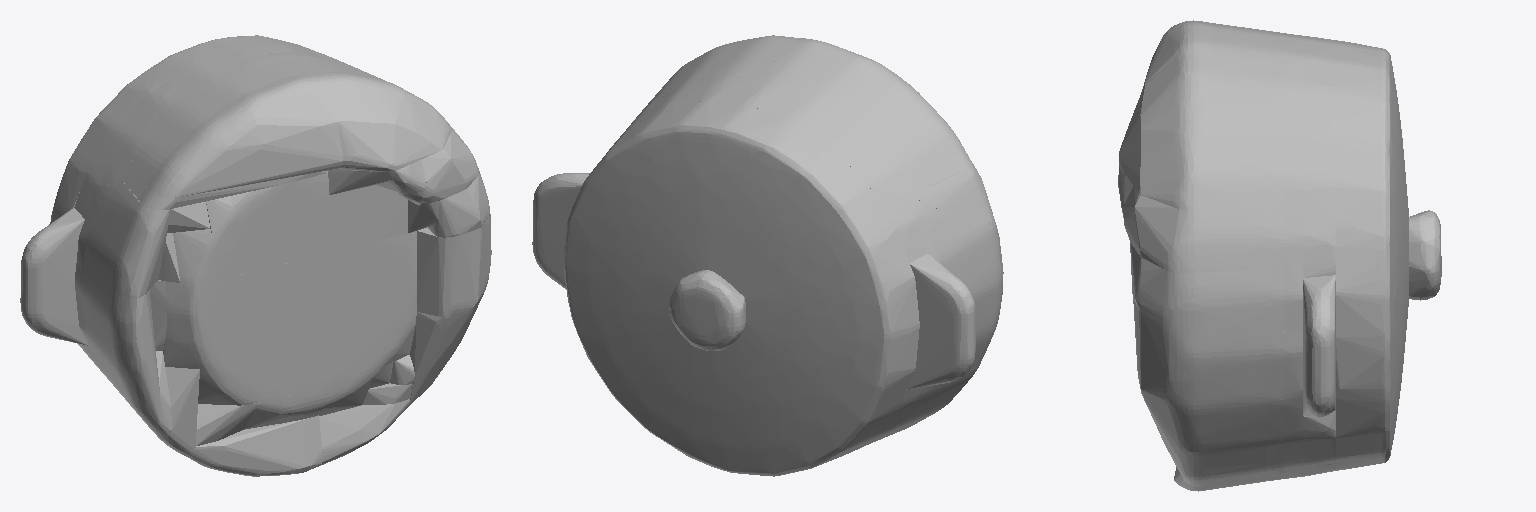
--- What the picture shows (computed from the rendered views, not written in the file) ---
3 views of the same robot in one strip: view 1: azimuth 30°, elevation 25°; view 2: azimuth 150°, elevation 25°; view 3: azimuth 270°, elevation 25° (orthographic).
Model root with 76 links and 75 joints (75 fixed), rooted at link_coacd_convex_piece_0, posed every joint at zero.
Links seen in each view (by area): view 1: link_coacd_convex_piece_5, link_coacd_convex_piece_27, link_coacd_convex_piece_6, link_coacd_convex_piece_2, link_coacd_convex_piece_31, link_coacd_convex_piece_26, link_coacd_convex_piece_21, link_coacd_convex_piece_35, link_coacd_convex_piece_1, link_coacd_convex_piece_30, link_coacd_convex_piece_57, link_coacd_convex_piece_32 (+28 smaller); view 2: link_coacd_convex_piece_1, link_coacd_convex_piece_21, link_coacd_convex_piece_32, link_coacd_convex_piece_0, link_coacd_convex_piece_35, link_coacd_convex_piece_33, link_coacd_convex_piece_9, link_coacd_convex_piece_27, link_coacd_convex_piece_26, link_coacd_convex_piece_15, link_coacd_convex_piece_3, link_coacd_convex_piece_22 (+9 smaller); view 3: link_coacd_convex_piece_1, link_coacd_convex_piece_7, link_coacd_convex_piece_2, link_coacd_convex_piece_16, link_coacd_convex_piece_3, link_coacd_convex_piece_38, link_coacd_convex_piece_15, link_coacd_convex_piece_33, link_coacd_convex_piece_59, link_coacd_convex_piece_0, link_coacd_convex_piece_61, link_coacd_convex_piece_23 (+11 smaller).
Link boxes in pixels (bbox=[...]): link_coacd_convex_piece_5: bbox=[198, 253, 328, 405]; link_coacd_convex_piece_27: bbox=[147, 74, 342, 197]; link_coacd_convex_piece_6: bbox=[329, 231, 416, 381]; link_coacd_convex_piece_2: bbox=[309, 72, 451, 171]; link_coacd_convex_piece_31: bbox=[230, 173, 328, 275]; link_coacd_convex_piece_26: bbox=[87, 267, 160, 431]; link_coacd_convex_piece_21: bbox=[20, 208, 87, 345]; link_coacd_convex_piece_35: bbox=[90, 179, 169, 298]; link_coacd_convex_piece_1: bbox=[50, 35, 315, 352]; link_coacd_convex_piece_30: bbox=[191, 415, 321, 476]; link_coacd_convex_piece_57: bbox=[329, 185, 407, 252]; link_coacd_convex_piece_32: bbox=[121, 83, 241, 198]; link_coacd_convex_piece_1: bbox=[564, 101, 919, 476]; link_coacd_convex_piece_21: bbox=[907, 254, 975, 388]; link_coacd_convex_piece_32: bbox=[829, 68, 957, 188]; link_coacd_convex_piece_0: bbox=[669, 270, 745, 350]; link_coacd_convex_piece_35: bbox=[926, 161, 999, 275]; link_coacd_convex_piece_33: bbox=[532, 173, 589, 288]; link_coacd_convex_piece_9: bbox=[789, 105, 912, 224]; link_coacd_convex_piece_27: bbox=[790, 38, 963, 158]; link_coacd_convex_piece_26: bbox=[926, 246, 1003, 402]; link_coacd_convex_piece_15: bbox=[617, 86, 803, 140]; link_coacd_convex_piece_3: bbox=[643, 44, 788, 109]; link_coacd_convex_piece_22: bbox=[764, 47, 853, 92]; link_coacd_convex_piece_1: bbox=[1336, 40, 1408, 470]; link_coacd_convex_piece_7: bbox=[1133, 299, 1265, 477]; link_coacd_convex_piece_2: bbox=[1119, 53, 1209, 210]; link_coacd_convex_piece_16: bbox=[1123, 186, 1265, 272]; link_coacd_convex_piece_3: bbox=[1210, 55, 1265, 209]; link_coacd_convex_piece_38: bbox=[1130, 243, 1265, 323]; link_coacd_convex_piece_15: bbox=[1303, 40, 1335, 212]; link_coacd_convex_piece_33: bbox=[1303, 275, 1335, 417]; link_coacd_convex_piece_59: bbox=[1266, 74, 1283, 241]; link_coacd_convex_piece_0: bbox=[1409, 210, 1441, 300]; link_coacd_convex_piece_61: bbox=[1284, 330, 1302, 454]; link_coacd_convex_piece_23: bbox=[1266, 350, 1283, 478].
Size in the robot's own frame: 1.93 by 1.12 by 1.63 metres.
Meshes: 76 distinct files referenced, 76 mesh visuals loaded (76 OBJ).

The robot description file, URDF, robot "root":
<robot name="root">
  <link name="link_coacd_convex_piece_0">
    <inertial>
      <origin xyz="0 0 0" rpy="0 0 0"/>
      <inertia ixx="1.48E-03" ixy="7.56E-06" ixz="7.05E-07" iyy="6.19E-05" iyz="-1.62E-05" izz="1.48E-03"/>
    </inertial>
    <visual>
      <origin xyz="0 0 0" rpy="0 0 0"/>
      <geometry>
        <mesh filename="coacd_convex_piece_0.obj" scale="1.0000E+00 1.0000E+00 1.0000E+00"/>
      </geometry>
      <material name="">
        <color rgba="7.50E-01 7.50E-01 7.50E-01 1"/>
      </material>
    </visual>
    <collision>
      <origin xyz="0 0 0" rpy="0 0 0"/>
      <geometry>
        <mesh filename="coacd_convex_piece_0.obj" scale="1.0000E+00 1.0000E+00 1.0000E+00"/>
      </geometry>
    </collision>
  </link>
  <link name="link_coacd_convex_piece_1">
    <inertial>
      <origin xyz="0 0 0" rpy="0 0 0"/>
      <inertia ixx="6.25E-02" ixy="9.17E-04" ixz="-1.69E-05" iyy="7.08E-02" iyz="2.14E-05" izz="6.24E-02"/>
    </inertial>
    <visual>
      <origin xyz="0 0 0" rpy="0 0 0"/>
      <geometry>
        <mesh filename="coacd_convex_piece_1.obj" scale="1.0000E+00 1.0000E+00 1.0000E+00"/>
      </geometry>
      <material name="">
        <color rgba="7.50E-01 7.50E-01 7.50E-01 1"/>
      </material>
    </visual>
    <collision>
      <origin xyz="0 0 0" rpy="0 0 0"/>
      <geometry>
        <mesh filename="coacd_convex_piece_1.obj" scale="1.0000E+00 1.0000E+00 1.0000E+00"/>
      </geometry>
    </collision>
  </link>
  <joint name="link_coacd_convex_piece_1_joint" type="fixed">
    <origin xyz="0 0 0" rpy="0 0 0"/>
    <parent link="link_coacd_convex_piece_0"/>
    <child link="link_coacd_convex_piece_1"/>
  </joint>
  <link name="link_coacd_convex_piece_2">
    <inertial>
      <origin xyz="0 0 0" rpy="0 0 0"/>
      <inertia ixx="1.02E-02" ixy="2.02E-03" ixz="-3.30E-03" iyy="9.36E-03" iyz="4.37E-03" izz="4.72E-03"/>
    </inertial>
    <visual>
      <origin xyz="0 0 0" rpy="0 0 0"/>
      <geometry>
        <mesh filename="coacd_convex_piece_2.obj" scale="1.0000E+00 1.0000E+00 1.0000E+00"/>
      </geometry>
      <material name="">
        <color rgba="7.50E-01 7.50E-01 7.50E-01 1"/>
      </material>
    </visual>
    <collision>
      <origin xyz="0 0 0" rpy="0 0 0"/>
      <geometry>
        <mesh filename="coacd_convex_piece_2.obj" scale="1.0000E+00 1.0000E+00 1.0000E+00"/>
      </geometry>
    </collision>
  </link>
  <joint name="link_coacd_convex_piece_2_joint" type="fixed">
    <origin xyz="0 0 0" rpy="0 0 0"/>
    <parent link="link_coacd_convex_piece_1"/>
    <child link="link_coacd_convex_piece_2"/>
  </joint>
  <link name="link_coacd_convex_piece_3">
    <inertial>
      <origin xyz="0 0 0" rpy="0 0 0"/>
      <inertia ixx="5.42E-03" ixy="5.97E-04" ixz="-2.39E-03" iyy="6.59E-03" iyz="1.20E-03" izz="1.81E-03"/>
    </inertial>
    <visual>
      <origin xyz="0 0 0" rpy="0 0 0"/>
      <geometry>
        <mesh filename="coacd_convex_piece_3.obj" scale="1.0000E+00 1.0000E+00 1.0000E+00"/>
      </geometry>
      <material name="">
        <color rgba="7.50E-01 7.50E-01 7.50E-01 1"/>
      </material>
    </visual>
    <collision>
      <origin xyz="0 0 0" rpy="0 0 0"/>
      <geometry>
        <mesh filename="coacd_convex_piece_3.obj" scale="1.0000E+00 1.0000E+00 1.0000E+00"/>
      </geometry>
    </collision>
  </link>
  <joint name="link_coacd_convex_piece_3_joint" type="fixed">
    <origin xyz="0 0 0" rpy="0 0 0"/>
    <parent link="link_coacd_convex_piece_2"/>
    <child link="link_coacd_convex_piece_3"/>
  </joint>
  <link name="link_coacd_convex_piece_4">
    <inertial>
      <origin xyz="0 0 0" rpy="0 0 0"/>
      <inertia ixx="5.82E-04" ixy="-4.44E-05" ixz="-8.27E-04" iyy="2.36E-03" iyz="-2.24E-05" izz="1.79E-03"/>
    </inertial>
    <visual>
      <origin xyz="0 0 0" rpy="0 0 0"/>
      <geometry>
        <mesh filename="coacd_convex_piece_4.obj" scale="1.0000E+00 1.0000E+00 1.0000E+00"/>
      </geometry>
      <material name="">
        <color rgba="7.50E-01 7.50E-01 7.50E-01 1"/>
      </material>
    </visual>
    <collision>
      <origin xyz="0 0 0" rpy="0 0 0"/>
      <geometry>
        <mesh filename="coacd_convex_piece_4.obj" scale="1.0000E+00 1.0000E+00 1.0000E+00"/>
      </geometry>
    </collision>
  </link>
  <joint name="link_coacd_convex_piece_4_joint" type="fixed">
    <origin xyz="0 0 0" rpy="0 0 0"/>
    <parent link="link_coacd_convex_piece_3"/>
    <child link="link_coacd_convex_piece_4"/>
  </joint>
  <link name="link_coacd_convex_piece_5">
    <inertial>
      <origin xyz="0 0 0" rpy="0 0 0"/>
      <inertia ixx="8.19E-03" ixy="-3.43E-03" ixz="-2.13E-03" iyy="8.08E-03" iyz="-2.67E-03" izz="9.18E-03"/>
    </inertial>
    <visual>
      <origin xyz="0 0 0" rpy="0 0 0"/>
      <geometry>
        <mesh filename="coacd_convex_piece_5.obj" scale="1.0000E+00 1.0000E+00 1.0000E+00"/>
      </geometry>
      <material name="">
        <color rgba="7.50E-01 7.50E-01 7.50E-01 1"/>
      </material>
    </visual>
    <collision>
      <origin xyz="0 0 0" rpy="0 0 0"/>
      <geometry>
        <mesh filename="coacd_convex_piece_5.obj" scale="1.0000E+00 1.0000E+00 1.0000E+00"/>
      </geometry>
    </collision>
  </link>
  <joint name="link_coacd_convex_piece_5_joint" type="fixed">
    <origin xyz="0 0 0" rpy="0 0 0"/>
    <parent link="link_coacd_convex_piece_4"/>
    <child link="link_coacd_convex_piece_5"/>
  </joint>
  <link name="link_coacd_convex_piece_6">
    <inertial>
      <origin xyz="0 0 0" rpy="0 0 0"/>
      <inertia ixx="5.31E-03" ixy="2.94E-03" ixz="1.70E-03" iyy="5.70E-03" iyz="-1.70E-03" izz="6.76E-03"/>
    </inertial>
    <visual>
      <origin xyz="0 0 0" rpy="0 0 0"/>
      <geometry>
        <mesh filename="coacd_convex_piece_6.obj" scale="1.0000E+00 1.0000E+00 1.0000E+00"/>
      </geometry>
      <material name="">
        <color rgba="7.50E-01 7.50E-01 7.50E-01 1"/>
      </material>
    </visual>
    <collision>
      <origin xyz="0 0 0" rpy="0 0 0"/>
      <geometry>
        <mesh filename="coacd_convex_piece_6.obj" scale="1.0000E+00 1.0000E+00 1.0000E+00"/>
      </geometry>
    </collision>
  </link>
  <joint name="link_coacd_convex_piece_6_joint" type="fixed">
    <origin xyz="0 0 0" rpy="0 0 0"/>
    <parent link="link_coacd_convex_piece_5"/>
    <child link="link_coacd_convex_piece_6"/>
  </joint>
  <link name="link_coacd_convex_piece_7">
    <inertial>
      <origin xyz="0 0 0" rpy="0 0 0"/>
      <inertia ixx="3.93E-03" ixy="5.38E-03" ixz="2.89E-03" iyy="1.55E-02" iyz="-1.07E-03" izz="1.66E-02"/>
    </inertial>
    <visual>
      <origin xyz="0 0 0" rpy="0 0 0"/>
      <geometry>
        <mesh filename="coacd_convex_piece_7.obj" scale="1.0000E+00 1.0000E+00 1.0000E+00"/>
      </geometry>
      <material name="">
        <color rgba="7.50E-01 7.50E-01 7.50E-01 1"/>
      </material>
    </visual>
    <collision>
      <origin xyz="0 0 0" rpy="0 0 0"/>
      <geometry>
        <mesh filename="coacd_convex_piece_7.obj" scale="1.0000E+00 1.0000E+00 1.0000E+00"/>
      </geometry>
    </collision>
  </link>
  <joint name="link_coacd_convex_piece_7_joint" type="fixed">
    <origin xyz="0 0 0" rpy="0 0 0"/>
    <parent link="link_coacd_convex_piece_6"/>
    <child link="link_coacd_convex_piece_7"/>
  </joint>
  <link name="link_coacd_convex_piece_8">
    <inertial>
      <origin xyz="0 0 0" rpy="0 0 0"/>
      <inertia ixx="4.95E-04" ixy="-7.80E-04" ixz="-1.74E-04" iyy="1.59E-03" iyz="-8.74E-05" izz="1.94E-03"/>
    </inertial>
    <visual>
      <origin xyz="0 0 0" rpy="0 0 0"/>
      <geometry>
        <mesh filename="coacd_convex_piece_8.obj" scale="1.0000E+00 1.0000E+00 1.0000E+00"/>
      </geometry>
      <material name="">
        <color rgba="7.50E-01 7.50E-01 7.50E-01 1"/>
      </material>
    </visual>
    <collision>
      <origin xyz="0 0 0" rpy="0 0 0"/>
      <geometry>
        <mesh filename="coacd_convex_piece_8.obj" scale="1.0000E+00 1.0000E+00 1.0000E+00"/>
      </geometry>
    </collision>
  </link>
  <joint name="link_coacd_convex_piece_8_joint" type="fixed">
    <origin xyz="0 0 0" rpy="0 0 0"/>
    <parent link="link_coacd_convex_piece_7"/>
    <child link="link_coacd_convex_piece_8"/>
  </joint>
  <link name="link_coacd_convex_piece_9">
    <inertial>
      <origin xyz="0 0 0" rpy="0 0 0"/>
      <inertia ixx="2.53E-03" ixy="4.21E-04" ixz="1.56E-03" iyy="3.58E-03" iyz="-6.07E-04" izz="1.39E-03"/>
    </inertial>
    <visual>
      <origin xyz="0 0 0" rpy="0 0 0"/>
      <geometry>
        <mesh filename="coacd_convex_piece_9.obj" scale="1.0000E+00 1.0000E+00 1.0000E+00"/>
      </geometry>
      <material name="">
        <color rgba="7.50E-01 7.50E-01 7.50E-01 1"/>
      </material>
    </visual>
    <collision>
      <origin xyz="0 0 0" rpy="0 0 0"/>
      <geometry>
        <mesh filename="coacd_convex_piece_9.obj" scale="1.0000E+00 1.0000E+00 1.0000E+00"/>
      </geometry>
    </collision>
  </link>
  <joint name="link_coacd_convex_piece_9_joint" type="fixed">
    <origin xyz="0 0 0" rpy="0 0 0"/>
    <parent link="link_coacd_convex_piece_8"/>
    <child link="link_coacd_convex_piece_9"/>
  </joint>
  <link name="link_coacd_convex_piece_10">
    <inertial>
      <origin xyz="0 0 0" rpy="0 0 0"/>
      <inertia ixx="1.18E-03" ixy="-3.55E-04" ixz="5.40E-04" iyy="1.31E-03" iyz="5.44E-04" izz="8.77E-04"/>
    </inertial>
    <visual>
      <origin xyz="0 0 0" rpy="0 0 0"/>
      <geometry>
        <mesh filename="coacd_convex_piece_10.obj" scale="1.0000E+00 1.0000E+00 1.0000E+00"/>
      </geometry>
      <material name="">
        <color rgba="7.50E-01 7.50E-01 7.50E-01 1"/>
      </material>
    </visual>
    <collision>
      <origin xyz="0 0 0" rpy="0 0 0"/>
      <geometry>
        <mesh filename="coacd_convex_piece_10.obj" scale="1.0000E+00 1.0000E+00 1.0000E+00"/>
      </geometry>
    </collision>
  </link>
  <joint name="link_coacd_convex_piece_10_joint" type="fixed">
    <origin xyz="0 0 0" rpy="0 0 0"/>
    <parent link="link_coacd_convex_piece_9"/>
    <child link="link_coacd_convex_piece_10"/>
  </joint>
  <link name="link_coacd_convex_piece_11">
    <inertial>
      <origin xyz="0 0 0" rpy="0 0 0"/>
      <inertia ixx="6.21E-05" ixy="9.17E-05" ixz="-1.90E-04" iyy="1.33E-03" iyz="1.41E-05" izz="1.29E-03"/>
    </inertial>
    <visual>
      <origin xyz="0 0 0" rpy="0 0 0"/>
      <geometry>
        <mesh filename="coacd_convex_piece_11.obj" scale="1.0000E+00 1.0000E+00 1.0000E+00"/>
      </geometry>
      <material name="">
        <color rgba="7.50E-01 7.50E-01 7.50E-01 1"/>
      </material>
    </visual>
    <collision>
      <origin xyz="0 0 0" rpy="0 0 0"/>
      <geometry>
        <mesh filename="coacd_convex_piece_11.obj" scale="1.0000E+00 1.0000E+00 1.0000E+00"/>
      </geometry>
    </collision>
  </link>
  <joint name="link_coacd_convex_piece_11_joint" type="fixed">
    <origin xyz="0 0 0" rpy="0 0 0"/>
    <parent link="link_coacd_convex_piece_10"/>
    <child link="link_coacd_convex_piece_11"/>
  </joint>
  <link name="link_coacd_convex_piece_12">
    <inertial>
      <origin xyz="0 0 0" rpy="0 0 0"/>
      <inertia ixx="6.12E-03" ixy="5.60E-04" ixz="1.83E-03" iyy="6.29E-03" iyz="-1.66E-03" izz="1.33E-03"/>
    </inertial>
    <visual>
      <origin xyz="0 0 0" rpy="0 0 0"/>
      <geometry>
        <mesh filename="coacd_convex_piece_12.obj" scale="1.0000E+00 1.0000E+00 1.0000E+00"/>
      </geometry>
      <material name="">
        <color rgba="7.50E-01 7.50E-01 7.50E-01 1"/>
      </material>
    </visual>
    <collision>
      <origin xyz="0 0 0" rpy="0 0 0"/>
      <geometry>
        <mesh filename="coacd_convex_piece_12.obj" scale="1.0000E+00 1.0000E+00 1.0000E+00"/>
      </geometry>
    </collision>
  </link>
  <joint name="link_coacd_convex_piece_12_joint" type="fixed">
    <origin xyz="0 0 0" rpy="0 0 0"/>
    <parent link="link_coacd_convex_piece_11"/>
    <child link="link_coacd_convex_piece_12"/>
  </joint>
  <link name="link_coacd_convex_piece_13">
    <inertial>
      <origin xyz="0 0 0" rpy="0 0 0"/>
      <inertia ixx="6.33E-04" ixy="6.61E-05" ixz="6.44E-04" iyy="1.39E-03" iyz="-5.89E-05" izz="7.69E-04"/>
    </inertial>
    <visual>
      <origin xyz="0 0 0" rpy="0 0 0"/>
      <geometry>
        <mesh filename="coacd_convex_piece_13.obj" scale="1.0000E+00 1.0000E+00 1.0000E+00"/>
      </geometry>
      <material name="">
        <color rgba="7.50E-01 7.50E-01 7.50E-01 1"/>
      </material>
    </visual>
    <collision>
      <origin xyz="0 0 0" rpy="0 0 0"/>
      <geometry>
        <mesh filename="coacd_convex_piece_13.obj" scale="1.0000E+00 1.0000E+00 1.0000E+00"/>
      </geometry>
    </collision>
  </link>
  <joint name="link_coacd_convex_piece_13_joint" type="fixed">
    <origin xyz="0 0 0" rpy="0 0 0"/>
    <parent link="link_coacd_convex_piece_12"/>
    <child link="link_coacd_convex_piece_13"/>
  </joint>
  <link name="link_coacd_convex_piece_14">
    <inertial>
      <origin xyz="0 0 0" rpy="0 0 0"/>
      <inertia ixx="4.71E-04" ixy="-1.22E-05" ixz="4.12E-04" iyy="8.54E-04" iyz="1.40E-05" izz="3.84E-04"/>
    </inertial>
    <visual>
      <origin xyz="0 0 0" rpy="0 0 0"/>
      <geometry>
        <mesh filename="coacd_convex_piece_14.obj" scale="1.0000E+00 1.0000E+00 1.0000E+00"/>
      </geometry>
      <material name="">
        <color rgba="7.50E-01 7.50E-01 7.50E-01 1"/>
      </material>
    </visual>
    <collision>
      <origin xyz="0 0 0" rpy="0 0 0"/>
      <geometry>
        <mesh filename="coacd_convex_piece_14.obj" scale="1.0000E+00 1.0000E+00 1.0000E+00"/>
      </geometry>
    </collision>
  </link>
  <joint name="link_coacd_convex_piece_14_joint" type="fixed">
    <origin xyz="0 0 0" rpy="0 0 0"/>
    <parent link="link_coacd_convex_piece_13"/>
    <child link="link_coacd_convex_piece_14"/>
  </joint>
  <link name="link_coacd_convex_piece_15">
    <inertial>
      <origin xyz="0 0 0" rpy="0 0 0"/>
      <inertia ixx="5.40E-03" ixy="-2.97E-04" ixz="-1.20E-03" iyy="5.97E-03" iyz="-1.18E-03" izz="1.16E-03"/>
    </inertial>
    <visual>
      <origin xyz="0 0 0" rpy="0 0 0"/>
      <geometry>
        <mesh filename="coacd_convex_piece_15.obj" scale="1.0000E+00 1.0000E+00 1.0000E+00"/>
      </geometry>
      <material name="">
        <color rgba="7.50E-01 7.50E-01 7.50E-01 1"/>
      </material>
    </visual>
    <collision>
      <origin xyz="0 0 0" rpy="0 0 0"/>
      <geometry>
        <mesh filename="coacd_convex_piece_15.obj" scale="1.0000E+00 1.0000E+00 1.0000E+00"/>
      </geometry>
    </collision>
  </link>
  <joint name="link_coacd_convex_piece_15_joint" type="fixed">
    <origin xyz="0 0 0" rpy="0 0 0"/>
    <parent link="link_coacd_convex_piece_14"/>
    <child link="link_coacd_convex_piece_15"/>
  </joint>
  <link name="link_coacd_convex_piece_16">
    <inertial>
      <origin xyz="0 0 0" rpy="0 0 0"/>
      <inertia ixx="3.72E-03" ixy="2.40E-03" ixz="-3.20E-03" iyy="7.06E-03" iyz="1.66E-03" izz="6.33E-03"/>
    </inertial>
    <visual>
      <origin xyz="0 0 0" rpy="0 0 0"/>
      <geometry>
        <mesh filename="coacd_convex_piece_16.obj" scale="1.0000E+00 1.0000E+00 1.0000E+00"/>
      </geometry>
      <material name="">
        <color rgba="7.50E-01 7.50E-01 7.50E-01 1"/>
      </material>
    </visual>
    <collision>
      <origin xyz="0 0 0" rpy="0 0 0"/>
      <geometry>
        <mesh filename="coacd_convex_piece_16.obj" scale="1.0000E+00 1.0000E+00 1.0000E+00"/>
      </geometry>
    </collision>
  </link>
  <joint name="link_coacd_convex_piece_16_joint" type="fixed">
    <origin xyz="0 0 0" rpy="0 0 0"/>
    <parent link="link_coacd_convex_piece_15"/>
    <child link="link_coacd_convex_piece_16"/>
  </joint>
  <link name="link_coacd_convex_piece_17">
    <inertial>
      <origin xyz="0 0 0" rpy="0 0 0"/>
      <inertia ixx="9.47E-04" ixy="1.20E-03" ixz="1.71E-04" iyy="1.76E-03" iyz="-1.17E-04" izz="2.56E-03"/>
    </inertial>
    <visual>
      <origin xyz="0 0 0" rpy="0 0 0"/>
      <geometry>
        <mesh filename="coacd_convex_piece_17.obj" scale="1.0000E+00 1.0000E+00 1.0000E+00"/>
      </geometry>
      <material name="">
        <color rgba="7.50E-01 7.50E-01 7.50E-01 1"/>
      </material>
    </visual>
    <collision>
      <origin xyz="0 0 0" rpy="0 0 0"/>
      <geometry>
        <mesh filename="coacd_convex_piece_17.obj" scale="1.0000E+00 1.0000E+00 1.0000E+00"/>
      </geometry>
    </collision>
  </link>
  <joint name="link_coacd_convex_piece_17_joint" type="fixed">
    <origin xyz="0 0 0" rpy="0 0 0"/>
    <parent link="link_coacd_convex_piece_16"/>
    <child link="link_coacd_convex_piece_17"/>
  </joint>
  <link name="link_coacd_convex_piece_18">
    <inertial>
      <origin xyz="0 0 0" rpy="0 0 0"/>
      <inertia ixx="1.94E-03" ixy="-4.81E-04" ixz="-1.22E-03" iyy="3.34E-03" iyz="-6.59E-04" izz="1.96E-03"/>
    </inertial>
    <visual>
      <origin xyz="0 0 0" rpy="0 0 0"/>
      <geometry>
        <mesh filename="coacd_convex_piece_18.obj" scale="1.0000E+00 1.0000E+00 1.0000E+00"/>
      </geometry>
      <material name="">
        <color rgba="7.50E-01 7.50E-01 7.50E-01 1"/>
      </material>
    </visual>
    <collision>
      <origin xyz="0 0 0" rpy="0 0 0"/>
      <geometry>
        <mesh filename="coacd_convex_piece_18.obj" scale="1.0000E+00 1.0000E+00 1.0000E+00"/>
      </geometry>
    </collision>
  </link>
  <joint name="link_coacd_convex_piece_18_joint" type="fixed">
    <origin xyz="0 0 0" rpy="0 0 0"/>
    <parent link="link_coacd_convex_piece_17"/>
    <child link="link_coacd_convex_piece_18"/>
  </joint>
  <link name="link_coacd_convex_piece_19">
    <inertial>
      <origin xyz="0 0 0" rpy="0 0 0"/>
      <inertia ixx="2.04E-03" ixy="-9.15E-04" ixz="-1.91E-03" iyy="3.99E-03" iyz="-7.39E-04" izz="2.77E-03"/>
    </inertial>
    <visual>
      <origin xyz="0 0 0" rpy="0 0 0"/>
      <geometry>
        <mesh filename="coacd_convex_piece_19.obj" scale="1.0000E+00 1.0000E+00 1.0000E+00"/>
      </geometry>
      <material name="">
        <color rgba="7.50E-01 7.50E-01 7.50E-01 1"/>
      </material>
    </visual>
    <collision>
      <origin xyz="0 0 0" rpy="0 0 0"/>
      <geometry>
        <mesh filename="coacd_convex_piece_19.obj" scale="1.0000E+00 1.0000E+00 1.0000E+00"/>
      </geometry>
    </collision>
  </link>
  <joint name="link_coacd_convex_piece_19_joint" type="fixed">
    <origin xyz="0 0 0" rpy="0 0 0"/>
    <parent link="link_coacd_convex_piece_18"/>
    <child link="link_coacd_convex_piece_19"/>
  </joint>
  <link name="link_coacd_convex_piece_20">
    <inertial>
      <origin xyz="0 0 0" rpy="0 0 0"/>
      <inertia ixx="1.28E-03" ixy="4.24E-04" ixz="-1.28E-03" iyy="2.73E-03" iyz="3.60E-04" izz="1.70E-03"/>
    </inertial>
    <visual>
      <origin xyz="0 0 0" rpy="0 0 0"/>
      <geometry>
        <mesh filename="coacd_convex_piece_20.obj" scale="1.0000E+00 1.0000E+00 1.0000E+00"/>
      </geometry>
      <material name="">
        <color rgba="7.50E-01 7.50E-01 7.50E-01 1"/>
      </material>
    </visual>
    <collision>
      <origin xyz="0 0 0" rpy="0 0 0"/>
      <geometry>
        <mesh filename="coacd_convex_piece_20.obj" scale="1.0000E+00 1.0000E+00 1.0000E+00"/>
      </geometry>
    </collision>
  </link>
  <joint name="link_coacd_convex_piece_20_joint" type="fixed">
    <origin xyz="0 0 0" rpy="0 0 0"/>
    <parent link="link_coacd_convex_piece_19"/>
    <child link="link_coacd_convex_piece_20"/>
  </joint>
  <link name="link_coacd_convex_piece_21">
    <inertial>
      <origin xyz="0 0 0" rpy="0 0 0"/>
      <inertia ixx="8.90E-04" ixy="2.04E-03" ixz="-1.75E-04" iyy="1.07E-02" iyz="4.11E-05" izz="1.07E-02"/>
    </inertial>
    <visual>
      <origin xyz="0 0 0" rpy="0 0 0"/>
      <geometry>
        <mesh filename="coacd_convex_piece_21.obj" scale="1.0000E+00 1.0000E+00 1.0000E+00"/>
      </geometry>
      <material name="">
        <color rgba="7.50E-01 7.50E-01 7.50E-01 1"/>
      </material>
    </visual>
    <collision>
      <origin xyz="0 0 0" rpy="0 0 0"/>
      <geometry>
        <mesh filename="coacd_convex_piece_21.obj" scale="1.0000E+00 1.0000E+00 1.0000E+00"/>
      </geometry>
    </collision>
  </link>
  <joint name="link_coacd_convex_piece_21_joint" type="fixed">
    <origin xyz="0 0 0" rpy="0 0 0"/>
    <parent link="link_coacd_convex_piece_20"/>
    <child link="link_coacd_convex_piece_21"/>
  </joint>
  <link name="link_coacd_convex_piece_22">
    <inertial>
      <origin xyz="0 0 0" rpy="0 0 0"/>
      <inertia ixx="3.49E-03" ixy="-7.64E-05" ixz="3.60E-04" iyy="3.41E-03" iyz="7.01E-04" izz="2.50E-04"/>
    </inertial>
    <visual>
      <origin xyz="0 0 0" rpy="0 0 0"/>
      <geometry>
        <mesh filename="coacd_convex_piece_22.obj" scale="1.0000E+00 1.0000E+00 1.0000E+00"/>
      </geometry>
      <material name="">
        <color rgba="7.50E-01 7.50E-01 7.50E-01 1"/>
      </material>
    </visual>
    <collision>
      <origin xyz="0 0 0" rpy="0 0 0"/>
      <geometry>
        <mesh filename="coacd_convex_piece_22.obj" scale="1.0000E+00 1.0000E+00 1.0000E+00"/>
      </geometry>
    </collision>
  </link>
  <joint name="link_coacd_convex_piece_22_joint" type="fixed">
    <origin xyz="0 0 0" rpy="0 0 0"/>
    <parent link="link_coacd_convex_piece_21"/>
    <child link="link_coacd_convex_piece_22"/>
  </joint>
  <link name="link_coacd_convex_piece_23">
    <inertial>
      <origin xyz="0 0 0" rpy="0 0 0"/>
      <inertia ixx="6.17E-04" ixy="4.56E-05" ixz="8.85E-04" iyy="2.51E-03" iyz="-2.25E-05" izz="1.89E-03"/>
    </inertial>
    <visual>
      <origin xyz="0 0 0" rpy="0 0 0"/>
      <geometry>
        <mesh filename="coacd_convex_piece_23.obj" scale="1.0000E+00 1.0000E+00 1.0000E+00"/>
      </geometry>
      <material name="">
        <color rgba="7.50E-01 7.50E-01 7.50E-01 1"/>
      </material>
    </visual>
    <collision>
      <origin xyz="0 0 0" rpy="0 0 0"/>
      <geometry>
        <mesh filename="coacd_convex_piece_23.obj" scale="1.0000E+00 1.0000E+00 1.0000E+00"/>
      </geometry>
    </collision>
  </link>
  <joint name="link_coacd_convex_piece_23_joint" type="fixed">
    <origin xyz="0 0 0" rpy="0 0 0"/>
    <parent link="link_coacd_convex_piece_22"/>
    <child link="link_coacd_convex_piece_23"/>
  </joint>
  <link name="link_coacd_convex_piece_24">
    <inertial>
      <origin xyz="0 0 0" rpy="0 0 0"/>
      <inertia ixx="6.35E-05" ixy="5.80E-05" ixz="2.02E-04" iyy="8.44E-04" iyz="-1.49E-05" izz="7.90E-04"/>
    </inertial>
    <visual>
      <origin xyz="0 0 0" rpy="0 0 0"/>
      <geometry>
        <mesh filename="coacd_convex_piece_24.obj" scale="1.0000E+00 1.0000E+00 1.0000E+00"/>
      </geometry>
      <material name="">
        <color rgba="7.50E-01 7.50E-01 7.50E-01 1"/>
      </material>
    </visual>
    <collision>
      <origin xyz="0 0 0" rpy="0 0 0"/>
      <geometry>
        <mesh filename="coacd_convex_piece_24.obj" scale="1.0000E+00 1.0000E+00 1.0000E+00"/>
      </geometry>
    </collision>
  </link>
  <joint name="link_coacd_convex_piece_24_joint" type="fixed">
    <origin xyz="0 0 0" rpy="0 0 0"/>
    <parent link="link_coacd_convex_piece_23"/>
    <child link="link_coacd_convex_piece_24"/>
  </joint>
  <link name="link_coacd_convex_piece_25">
    <inertial>
      <origin xyz="0 0 0" rpy="0 0 0"/>
      <inertia ixx="2.87E-04" ixy="4.31E-05" ixz="-3.80E-04" iyy="8.32E-04" iyz="3.06E-05" izz="5.52E-04"/>
    </inertial>
    <visual>
      <origin xyz="0 0 0" rpy="0 0 0"/>
      <geometry>
        <mesh filename="coacd_convex_piece_25.obj" scale="1.0000E+00 1.0000E+00 1.0000E+00"/>
      </geometry>
      <material name="">
        <color rgba="7.50E-01 7.50E-01 7.50E-01 1"/>
      </material>
    </visual>
    <collision>
      <origin xyz="0 0 0" rpy="0 0 0"/>
      <geometry>
        <mesh filename="coacd_convex_piece_25.obj" scale="1.0000E+00 1.0000E+00 1.0000E+00"/>
      </geometry>
    </collision>
  </link>
  <joint name="link_coacd_convex_piece_25_joint" type="fixed">
    <origin xyz="0 0 0" rpy="0 0 0"/>
    <parent link="link_coacd_convex_piece_24"/>
    <child link="link_coacd_convex_piece_25"/>
  </joint>
  <link name="link_coacd_convex_piece_26">
    <inertial>
      <origin xyz="0 0 0" rpy="0 0 0"/>
      <inertia ixx="1.58E-03" ixy="-2.67E-03" ixz="-1.53E-03" iyy="9.69E-03" iyz="-4.67E-04" izz="9.97E-03"/>
    </inertial>
    <visual>
      <origin xyz="0 0 0" rpy="0 0 0"/>
      <geometry>
        <mesh filename="coacd_convex_piece_26.obj" scale="1.0000E+00 1.0000E+00 1.0000E+00"/>
      </geometry>
      <material name="">
        <color rgba="7.50E-01 7.50E-01 7.50E-01 1"/>
      </material>
    </visual>
    <collision>
      <origin xyz="0 0 0" rpy="0 0 0"/>
      <geometry>
        <mesh filename="coacd_convex_piece_26.obj" scale="1.0000E+00 1.0000E+00 1.0000E+00"/>
      </geometry>
    </collision>
  </link>
  <joint name="link_coacd_convex_piece_26_joint" type="fixed">
    <origin xyz="0 0 0" rpy="0 0 0"/>
    <parent link="link_coacd_convex_piece_25"/>
    <child link="link_coacd_convex_piece_26"/>
  </joint>
  <link name="link_coacd_convex_piece_27">
    <inertial>
      <origin xyz="0 0 0" rpy="0 0 0"/>
      <inertia ixx="1.16E-02" ixy="-1.47E-03" ixz="2.73E-03" iyy="1.05E-02" iyz="4.75E-03" izz="4.22E-03"/>
    </inertial>
    <visual>
      <origin xyz="0 0 0" rpy="0 0 0"/>
      <geometry>
        <mesh filename="coacd_convex_piece_27.obj" scale="1.0000E+00 1.0000E+00 1.0000E+00"/>
      </geometry>
      <material name="">
        <color rgba="7.50E-01 7.50E-01 7.50E-01 1"/>
      </material>
    </visual>
    <collision>
      <origin xyz="0 0 0" rpy="0 0 0"/>
      <geometry>
        <mesh filename="coacd_convex_piece_27.obj" scale="1.0000E+00 1.0000E+00 1.0000E+00"/>
      </geometry>
    </collision>
  </link>
  <joint name="link_coacd_convex_piece_27_joint" type="fixed">
    <origin xyz="0 0 0" rpy="0 0 0"/>
    <parent link="link_coacd_convex_piece_26"/>
    <child link="link_coacd_convex_piece_27"/>
  </joint>
  <link name="link_coacd_convex_piece_28">
    <inertial>
      <origin xyz="0 0 0" rpy="0 0 0"/>
      <inertia ixx="1.67E-04" ixy="-2.67E-05" ixz="3.71E-04" iyy="1.33E-03" iyz="9.22E-06" izz="1.16E-03"/>
    </inertial>
    <visual>
      <origin xyz="0 0 0" rpy="0 0 0"/>
      <geometry>
        <mesh filename="coacd_convex_piece_28.obj" scale="1.0000E+00 1.0000E+00 1.0000E+00"/>
      </geometry>
      <material name="">
        <color rgba="7.50E-01 7.50E-01 7.50E-01 1"/>
      </material>
    </visual>
    <collision>
      <origin xyz="0 0 0" rpy="0 0 0"/>
      <geometry>
        <mesh filename="coacd_convex_piece_28.obj" scale="1.0000E+00 1.0000E+00 1.0000E+00"/>
      </geometry>
    </collision>
  </link>
  <joint name="link_coacd_convex_piece_28_joint" type="fixed">
    <origin xyz="0 0 0" rpy="0 0 0"/>
    <parent link="link_coacd_convex_piece_27"/>
    <child link="link_coacd_convex_piece_28"/>
  </joint>
  <link name="link_coacd_convex_piece_29">
    <inertial>
      <origin xyz="0 0 0" rpy="0 0 0"/>
      <inertia ixx="2.69E-03" ixy="1.31E-03" ixz="2.20E-03" iyy="4.61E-03" iyz="-1.04E-03" izz="3.41E-03"/>
    </inertial>
    <visual>
      <origin xyz="0 0 0" rpy="0 0 0"/>
      <geometry>
        <mesh filename="coacd_convex_piece_29.obj" scale="1.0000E+00 1.0000E+00 1.0000E+00"/>
      </geometry>
      <material name="">
        <color rgba="7.50E-01 7.50E-01 7.50E-01 1"/>
      </material>
    </visual>
    <collision>
      <origin xyz="0 0 0" rpy="0 0 0"/>
      <geometry>
        <mesh filename="coacd_convex_piece_29.obj" scale="1.0000E+00 1.0000E+00 1.0000E+00"/>
      </geometry>
    </collision>
  </link>
  <joint name="link_coacd_convex_piece_29_joint" type="fixed">
    <origin xyz="0 0 0" rpy="0 0 0"/>
    <parent link="link_coacd_convex_piece_28"/>
    <child link="link_coacd_convex_piece_29"/>
  </joint>
  <link name="link_coacd_convex_piece_30">
    <inertial>
      <origin xyz="0 0 0" rpy="0 0 0"/>
      <inertia ixx="1.04E-02" ixy="-6.90E-04" ixz="-2.28E-03" iyy="1.04E-02" iyz="-2.79E-03" izz="1.97E-03"/>
    </inertial>
    <visual>
      <origin xyz="0 0 0" rpy="0 0 0"/>
      <geometry>
        <mesh filename="coacd_convex_piece_30.obj" scale="1.0000E+00 1.0000E+00 1.0000E+00"/>
      </geometry>
      <material name="">
        <color rgba="7.50E-01 7.50E-01 7.50E-01 1"/>
      </material>
    </visual>
    <collision>
      <origin xyz="0 0 0" rpy="0 0 0"/>
      <geometry>
        <mesh filename="coacd_convex_piece_30.obj" scale="1.0000E+00 1.0000E+00 1.0000E+00"/>
      </geometry>
    </collision>
  </link>
  <joint name="link_coacd_convex_piece_30_joint" type="fixed">
    <origin xyz="0 0 0" rpy="0 0 0"/>
    <parent link="link_coacd_convex_piece_29"/>
    <child link="link_coacd_convex_piece_30"/>
  </joint>
  <link name="link_coacd_convex_piece_31">
    <inertial>
      <origin xyz="0 0 0" rpy="0 0 0"/>
      <inertia ixx="4.71E-03" ixy="-1.04E-03" ixz="1.14E-03" iyy="3.63E-03" iyz="2.11E-03" izz="3.12E-03"/>
    </inertial>
    <visual>
      <origin xyz="0 0 0" rpy="0 0 0"/>
      <geometry>
        <mesh filename="coacd_convex_piece_31.obj" scale="1.0000E+00 1.0000E+00 1.0000E+00"/>
      </geometry>
      <material name="">
        <color rgba="7.50E-01 7.50E-01 7.50E-01 1"/>
      </material>
    </visual>
    <collision>
      <origin xyz="0 0 0" rpy="0 0 0"/>
      <geometry>
        <mesh filename="coacd_convex_piece_31.obj" scale="1.0000E+00 1.0000E+00 1.0000E+00"/>
      </geometry>
    </collision>
  </link>
  <joint name="link_coacd_convex_piece_31_joint" type="fixed">
    <origin xyz="0 0 0" rpy="0 0 0"/>
    <parent link="link_coacd_convex_piece_30"/>
    <child link="link_coacd_convex_piece_31"/>
  </joint>
  <link name="link_coacd_convex_piece_32">
    <inertial>
      <origin xyz="0 0 0" rpy="0 0 0"/>
      <inertia ixx="3.74E-03" ixy="-5.98E-04" ixz="2.32E-03" iyy="5.26E-03" iyz="8.67E-04" izz="2.01E-03"/>
    </inertial>
    <visual>
      <origin xyz="0 0 0" rpy="0 0 0"/>
      <geometry>
        <mesh filename="coacd_convex_piece_32.obj" scale="1.0000E+00 1.0000E+00 1.0000E+00"/>
      </geometry>
      <material name="">
        <color rgba="7.50E-01 7.50E-01 7.50E-01 1"/>
      </material>
    </visual>
    <collision>
      <origin xyz="0 0 0" rpy="0 0 0"/>
      <geometry>
        <mesh filename="coacd_convex_piece_32.obj" scale="1.0000E+00 1.0000E+00 1.0000E+00"/>
      </geometry>
    </collision>
  </link>
  <joint name="link_coacd_convex_piece_32_joint" type="fixed">
    <origin xyz="0 0 0" rpy="0 0 0"/>
    <parent link="link_coacd_convex_piece_31"/>
    <child link="link_coacd_convex_piece_32"/>
  </joint>
  <link name="link_coacd_convex_piece_33">
    <inertial>
      <origin xyz="0 0 0" rpy="0 0 0"/>
      <inertia ixx="2.54E-03" ixy="-2.14E-03" ixz="1.06E-04" iyy="1.37E-02" iyz="1.11E-04" izz="1.36E-02"/>
    </inertial>
    <visual>
      <origin xyz="0 0 0" rpy="0 0 0"/>
      <geometry>
        <mesh filename="coacd_convex_piece_33.obj" scale="1.0000E+00 1.0000E+00 1.0000E+00"/>
      </geometry>
      <material name="">
        <color rgba="7.50E-01 7.50E-01 7.50E-01 1"/>
      </material>
    </visual>
    <collision>
      <origin xyz="0 0 0" rpy="0 0 0"/>
      <geometry>
        <mesh filename="coacd_convex_piece_33.obj" scale="1.0000E+00 1.0000E+00 1.0000E+00"/>
      </geometry>
    </collision>
  </link>
  <joint name="link_coacd_convex_piece_33_joint" type="fixed">
    <origin xyz="0 0 0" rpy="0 0 0"/>
    <parent link="link_coacd_convex_piece_32"/>
    <child link="link_coacd_convex_piece_33"/>
  </joint>
  <link name="link_coacd_convex_piece_34">
    <inertial>
      <origin xyz="0 0 0" rpy="0 0 0"/>
      <inertia ixx="7.54E-04" ixy="-5.25E-04" ixz="4.98E-04" iyy="1.13E-03" iyz="3.52E-04" izz="1.15E-03"/>
    </inertial>
    <visual>
      <origin xyz="0 0 0" rpy="0 0 0"/>
      <geometry>
        <mesh filename="coacd_convex_piece_34.obj" scale="1.0000E+00 1.0000E+00 1.0000E+00"/>
      </geometry>
      <material name="">
        <color rgba="7.50E-01 7.50E-01 7.50E-01 1"/>
      </material>
    </visual>
    <collision>
      <origin xyz="0 0 0" rpy="0 0 0"/>
      <geometry>
        <mesh filename="coacd_convex_piece_34.obj" scale="1.0000E+00 1.0000E+00 1.0000E+00"/>
      </geometry>
    </collision>
  </link>
  <joint name="link_coacd_convex_piece_34_joint" type="fixed">
    <origin xyz="0 0 0" rpy="0 0 0"/>
    <parent link="link_coacd_convex_piece_33"/>
    <child link="link_coacd_convex_piece_34"/>
  </joint>
  <link name="link_coacd_convex_piece_35">
    <inertial>
      <origin xyz="0 0 0" rpy="0 0 0"/>
      <inertia ixx="1.39E-03" ixy="-1.58E-03" ixz="1.92E-03" iyy="5.97E-03" iyz="6.00E-04" izz="5.73E-03"/>
    </inertial>
    <visual>
      <origin xyz="0 0 0" rpy="0 0 0"/>
      <geometry>
        <mesh filename="coacd_convex_piece_35.obj" scale="1.0000E+00 1.0000E+00 1.0000E+00"/>
      </geometry>
      <material name="">
        <color rgba="7.50E-01 7.50E-01 7.50E-01 1"/>
      </material>
    </visual>
    <collision>
      <origin xyz="0 0 0" rpy="0 0 0"/>
      <geometry>
        <mesh filename="coacd_convex_piece_35.obj" scale="1.0000E+00 1.0000E+00 1.0000E+00"/>
      </geometry>
    </collision>
  </link>
  <joint name="link_coacd_convex_piece_35_joint" type="fixed">
    <origin xyz="0 0 0" rpy="0 0 0"/>
    <parent link="link_coacd_convex_piece_34"/>
    <child link="link_coacd_convex_piece_35"/>
  </joint>
  <link name="link_coacd_convex_piece_36">
    <inertial>
      <origin xyz="0 0 0" rpy="0 0 0"/>
      <inertia ixx="2.43E-04" ixy="8.72E-05" ixz="1.76E-04" iyy="3.63E-04" iyz="-9.47E-05" izz="2.15E-04"/>
    </inertial>
    <visual>
      <origin xyz="0 0 0" rpy="0 0 0"/>
      <geometry>
        <mesh filename="coacd_convex_piece_36.obj" scale="1.0000E+00 1.0000E+00 1.0000E+00"/>
      </geometry>
      <material name="">
        <color rgba="7.50E-01 7.50E-01 7.50E-01 1"/>
      </material>
    </visual>
    <collision>
      <origin xyz="0 0 0" rpy="0 0 0"/>
      <geometry>
        <mesh filename="coacd_convex_piece_36.obj" scale="1.0000E+00 1.0000E+00 1.0000E+00"/>
      </geometry>
    </collision>
  </link>
  <joint name="link_coacd_convex_piece_36_joint" type="fixed">
    <origin xyz="0 0 0" rpy="0 0 0"/>
    <parent link="link_coacd_convex_piece_35"/>
    <child link="link_coacd_convex_piece_36"/>
  </joint>
  <link name="link_coacd_convex_piece_37">
    <inertial>
      <origin xyz="0 0 0" rpy="0 0 0"/>
      <inertia ixx="3.28E-04" ixy="2.17E-04" ixz="4.84E-04" iyy="1.16E-03" iyz="-1.20E-04" izz="9.49E-04"/>
    </inertial>
    <visual>
      <origin xyz="0 0 0" rpy="0 0 0"/>
      <geometry>
        <mesh filename="coacd_convex_piece_37.obj" scale="1.0000E+00 1.0000E+00 1.0000E+00"/>
      </geometry>
      <material name="">
        <color rgba="7.50E-01 7.50E-01 7.50E-01 1"/>
      </material>
    </visual>
    <collision>
      <origin xyz="0 0 0" rpy="0 0 0"/>
      <geometry>
        <mesh filename="coacd_convex_piece_37.obj" scale="1.0000E+00 1.0000E+00 1.0000E+00"/>
      </geometry>
    </collision>
  </link>
  <joint name="link_coacd_convex_piece_37_joint" type="fixed">
    <origin xyz="0 0 0" rpy="0 0 0"/>
    <parent link="link_coacd_convex_piece_36"/>
    <child link="link_coacd_convex_piece_37"/>
  </joint>
  <link name="link_coacd_convex_piece_38">
    <inertial>
      <origin xyz="0 0 0" rpy="0 0 0"/>
      <inertia ixx="1.85E-03" ixy="2.38E-03" ixz="-1.65E-03" iyy="5.89E-03" iyz="7.64E-04" izz="6.63E-03"/>
    </inertial>
    <visual>
      <origin xyz="0 0 0" rpy="0 0 0"/>
      <geometry>
        <mesh filename="coacd_convex_piece_38.obj" scale="1.0000E+00 1.0000E+00 1.0000E+00"/>
      </geometry>
      <material name="">
        <color rgba="7.50E-01 7.50E-01 7.50E-01 1"/>
      </material>
    </visual>
    <collision>
      <origin xyz="0 0 0" rpy="0 0 0"/>
      <geometry>
        <mesh filename="coacd_convex_piece_38.obj" scale="1.0000E+00 1.0000E+00 1.0000E+00"/>
      </geometry>
    </collision>
  </link>
  <joint name="link_coacd_convex_piece_38_joint" type="fixed">
    <origin xyz="0 0 0" rpy="0 0 0"/>
    <parent link="link_coacd_convex_piece_37"/>
    <child link="link_coacd_convex_piece_38"/>
  </joint>
  <link name="link_coacd_convex_piece_39">
    <inertial>
      <origin xyz="0 0 0" rpy="0 0 0"/>
      <inertia ixx="7.16E-05" ixy="-1.60E-04" ixz="-2.62E-05" iyy="4.27E-04" iyz="-9.58E-06" izz="4.80E-04"/>
    </inertial>
    <visual>
      <origin xyz="0 0 0" rpy="0 0 0"/>
      <geometry>
        <mesh filename="coacd_convex_piece_39.obj" scale="1.0000E+00 1.0000E+00 1.0000E+00"/>
      </geometry>
      <material name="">
        <color rgba="7.50E-01 7.50E-01 7.50E-01 1"/>
      </material>
    </visual>
    <collision>
      <origin xyz="0 0 0" rpy="0 0 0"/>
      <geometry>
        <mesh filename="coacd_convex_piece_39.obj" scale="1.0000E+00 1.0000E+00 1.0000E+00"/>
      </geometry>
    </collision>
  </link>
  <joint name="link_coacd_convex_piece_39_joint" type="fixed">
    <origin xyz="0 0 0" rpy="0 0 0"/>
    <parent link="link_coacd_convex_piece_38"/>
    <child link="link_coacd_convex_piece_39"/>
  </joint>
  <link name="link_coacd_convex_piece_40">
    <inertial>
      <origin xyz="0 0 0" rpy="0 0 0"/>
      <inertia ixx="9.10E-04" ixy="3.33E-05" ixz="-4.34E-04" iyy="1.15E-03" iyz="6.66E-05" izz="2.49E-04"/>
    </inertial>
    <visual>
      <origin xyz="0 0 0" rpy="0 0 0"/>
      <geometry>
        <mesh filename="coacd_convex_piece_40.obj" scale="1.0000E+00 1.0000E+00 1.0000E+00"/>
      </geometry>
      <material name="">
        <color rgba="7.50E-01 7.50E-01 7.50E-01 1"/>
      </material>
    </visual>
    <collision>
      <origin xyz="0 0 0" rpy="0 0 0"/>
      <geometry>
        <mesh filename="coacd_convex_piece_40.obj" scale="1.0000E+00 1.0000E+00 1.0000E+00"/>
      </geometry>
    </collision>
  </link>
  <joint name="link_coacd_convex_piece_40_joint" type="fixed">
    <origin xyz="0 0 0" rpy="0 0 0"/>
    <parent link="link_coacd_convex_piece_39"/>
    <child link="link_coacd_convex_piece_40"/>
  </joint>
  <link name="link_coacd_convex_piece_41">
    <inertial>
      <origin xyz="0 0 0" rpy="0 0 0"/>
      <inertia ixx="1.27E-03" ixy="1.76E-05" ixz="2.44E-04" iyy="1.35E-03" iyz="-8.56E-05" izz="9.57E-05"/>
    </inertial>
    <visual>
      <origin xyz="0 0 0" rpy="0 0 0"/>
      <geometry>
        <mesh filename="coacd_convex_piece_41.obj" scale="1.0000E+00 1.0000E+00 1.0000E+00"/>
      </geometry>
      <material name="">
        <color rgba="7.50E-01 7.50E-01 7.50E-01 1"/>
      </material>
    </visual>
    <collision>
      <origin xyz="0 0 0" rpy="0 0 0"/>
      <geometry>
        <mesh filename="coacd_convex_piece_41.obj" scale="1.0000E+00 1.0000E+00 1.0000E+00"/>
      </geometry>
    </collision>
  </link>
  <joint name="link_coacd_convex_piece_41_joint" type="fixed">
    <origin xyz="0 0 0" rpy="0 0 0"/>
    <parent link="link_coacd_convex_piece_40"/>
    <child link="link_coacd_convex_piece_41"/>
  </joint>
  <link name="link_coacd_convex_piece_42">
    <inertial>
      <origin xyz="0 0 0" rpy="0 0 0"/>
      <inertia ixx="1.34E-04" ixy="7.20E-05" ixz="-5.06E-05" iyy="1.03E-04" iyz="6.31E-05" izz="1.48E-04"/>
    </inertial>
    <visual>
      <origin xyz="0 0 0" rpy="0 0 0"/>
      <geometry>
        <mesh filename="coacd_convex_piece_42.obj" scale="1.0000E+00 1.0000E+00 1.0000E+00"/>
      </geometry>
      <material name="">
        <color rgba="7.50E-01 7.50E-01 7.50E-01 1"/>
      </material>
    </visual>
    <collision>
      <origin xyz="0 0 0" rpy="0 0 0"/>
      <geometry>
        <mesh filename="coacd_convex_piece_42.obj" scale="1.0000E+00 1.0000E+00 1.0000E+00"/>
      </geometry>
    </collision>
  </link>
  <joint name="link_coacd_convex_piece_42_joint" type="fixed">
    <origin xyz="0 0 0" rpy="0 0 0"/>
    <parent link="link_coacd_convex_piece_41"/>
    <child link="link_coacd_convex_piece_42"/>
  </joint>
  <link name="link_coacd_convex_piece_43">
    <inertial>
      <origin xyz="0 0 0" rpy="0 0 0"/>
      <inertia ixx="4.60E-04" ixy="2.39E-06" ixz="2.49E-06" iyy="9.06E-04" iyz="7.65E-07" izz="4.59E-04"/>
    </inertial>
    <visual>
      <origin xyz="0 0 0" rpy="0 0 0"/>
      <geometry>
        <mesh filename="coacd_convex_piece_43.obj" scale="1.0000E+00 1.0000E+00 1.0000E+00"/>
      </geometry>
      <material name="">
        <color rgba="7.50E-01 7.50E-01 7.50E-01 1"/>
      </material>
    </visual>
    <collision>
      <origin xyz="0 0 0" rpy="0 0 0"/>
      <geometry>
        <mesh filename="coacd_convex_piece_43.obj" scale="1.0000E+00 1.0000E+00 1.0000E+00"/>
      </geometry>
    </collision>
  </link>
  <joint name="link_coacd_convex_piece_43_joint" type="fixed">
    <origin xyz="0 0 0" rpy="0 0 0"/>
    <parent link="link_coacd_convex_piece_42"/>
    <child link="link_coacd_convex_piece_43"/>
  </joint>
  <link name="link_coacd_convex_piece_44">
    <inertial>
      <origin xyz="0 0 0" rpy="0 0 0"/>
      <inertia ixx="9.55E-05" ixy="2.12E-05" ixz="-2.51E-04" iyy="9.92E-04" iyz="6.23E-06" izz="8.98E-04"/>
    </inertial>
    <visual>
      <origin xyz="0 0 0" rpy="0 0 0"/>
      <geometry>
        <mesh filename="coacd_convex_piece_44.obj" scale="1.0000E+00 1.0000E+00 1.0000E+00"/>
      </geometry>
      <material name="">
        <color rgba="7.50E-01 7.50E-01 7.50E-01 1"/>
      </material>
    </visual>
    <collision>
      <origin xyz="0 0 0" rpy="0 0 0"/>
      <geometry>
        <mesh filename="coacd_convex_piece_44.obj" scale="1.0000E+00 1.0000E+00 1.0000E+00"/>
      </geometry>
    </collision>
  </link>
  <joint name="link_coacd_convex_piece_44_joint" type="fixed">
    <origin xyz="0 0 0" rpy="0 0 0"/>
    <parent link="link_coacd_convex_piece_43"/>
    <child link="link_coacd_convex_piece_44"/>
  </joint>
  <link name="link_coacd_convex_piece_45">
    <inertial>
      <origin xyz="0 0 0" rpy="0 0 0"/>
      <inertia ixx="2.26E-03" ixy="-1.57E-04" ixz="-2.85E-04" iyy="1.82E-03" iyz="-9.42E-04" izz="6.42E-04"/>
    </inertial>
    <visual>
      <origin xyz="0 0 0" rpy="0 0 0"/>
      <geometry>
        <mesh filename="coacd_convex_piece_45.obj" scale="1.0000E+00 1.0000E+00 1.0000E+00"/>
      </geometry>
      <material name="">
        <color rgba="7.50E-01 7.50E-01 7.50E-01 1"/>
      </material>
    </visual>
    <collision>
      <origin xyz="0 0 0" rpy="0 0 0"/>
      <geometry>
        <mesh filename="coacd_convex_piece_45.obj" scale="1.0000E+00 1.0000E+00 1.0000E+00"/>
      </geometry>
    </collision>
  </link>
  <joint name="link_coacd_convex_piece_45_joint" type="fixed">
    <origin xyz="0 0 0" rpy="0 0 0"/>
    <parent link="link_coacd_convex_piece_44"/>
    <child link="link_coacd_convex_piece_45"/>
  </joint>
  <link name="link_coacd_convex_piece_46">
    <inertial>
      <origin xyz="0 0 0" rpy="0 0 0"/>
      <inertia ixx="1.80E-04" ixy="-9.41E-05" ixz="-4.07E-04" iyy="1.33E-03" iyz="-3.40E-05" izz="1.17E-03"/>
    </inertial>
    <visual>
      <origin xyz="0 0 0" rpy="0 0 0"/>
      <geometry>
        <mesh filename="coacd_convex_piece_46.obj" scale="1.0000E+00 1.0000E+00 1.0000E+00"/>
      </geometry>
      <material name="">
        <color rgba="7.50E-01 7.50E-01 7.50E-01 1"/>
      </material>
    </visual>
    <collision>
      <origin xyz="0 0 0" rpy="0 0 0"/>
      <geometry>
        <mesh filename="coacd_convex_piece_46.obj" scale="1.0000E+00 1.0000E+00 1.0000E+00"/>
      </geometry>
    </collision>
  </link>
  <joint name="link_coacd_convex_piece_46_joint" type="fixed">
    <origin xyz="0 0 0" rpy="0 0 0"/>
    <parent link="link_coacd_convex_piece_45"/>
    <child link="link_coacd_convex_piece_46"/>
  </joint>
  <link name="link_coacd_convex_piece_47">
    <inertial>
      <origin xyz="0 0 0" rpy="0 0 0"/>
      <inertia ixx="3.33E-04" ixy="2.95E-04" ixz="-1.61E-04" iyy="4.27E-04" iyz="1.38E-04" izz="6.05E-04"/>
    </inertial>
    <visual>
      <origin xyz="0 0 0" rpy="0 0 0"/>
      <geometry>
        <mesh filename="coacd_convex_piece_47.obj" scale="1.0000E+00 1.0000E+00 1.0000E+00"/>
      </geometry>
      <material name="">
        <color rgba="7.50E-01 7.50E-01 7.50E-01 1"/>
      </material>
    </visual>
    <collision>
      <origin xyz="0 0 0" rpy="0 0 0"/>
      <geometry>
        <mesh filename="coacd_convex_piece_47.obj" scale="1.0000E+00 1.0000E+00 1.0000E+00"/>
      </geometry>
    </collision>
  </link>
  <joint name="link_coacd_convex_piece_47_joint" type="fixed">
    <origin xyz="0 0 0" rpy="0 0 0"/>
    <parent link="link_coacd_convex_piece_46"/>
    <child link="link_coacd_convex_piece_47"/>
  </joint>
  <link name="link_coacd_convex_piece_48">
    <inertial>
      <origin xyz="0 0 0" rpy="0 0 0"/>
      <inertia ixx="6.12E-04" ixy="-4.04E-04" ixz="-7.38E-04" iyy="1.72E-03" iyz="-2.40E-04" izz="1.41E-03"/>
    </inertial>
    <visual>
      <origin xyz="0 0 0" rpy="0 0 0"/>
      <geometry>
        <mesh filename="coacd_convex_piece_48.obj" scale="1.0000E+00 1.0000E+00 1.0000E+00"/>
      </geometry>
      <material name="">
        <color rgba="7.50E-01 7.50E-01 7.50E-01 1"/>
      </material>
    </visual>
    <collision>
      <origin xyz="0 0 0" rpy="0 0 0"/>
      <geometry>
        <mesh filename="coacd_convex_piece_48.obj" scale="1.0000E+00 1.0000E+00 1.0000E+00"/>
      </geometry>
    </collision>
  </link>
  <joint name="link_coacd_convex_piece_48_joint" type="fixed">
    <origin xyz="0 0 0" rpy="0 0 0"/>
    <parent link="link_coacd_convex_piece_47"/>
    <child link="link_coacd_convex_piece_48"/>
  </joint>
  <link name="link_coacd_convex_piece_49">
    <inertial>
      <origin xyz="0 0 0" rpy="0 0 0"/>
      <inertia ixx="9.45E-04" ixy="-5.33E-04" ixz="9.47E-04" iyy="2.01E-03" iyz="3.89E-04" izz="1.57E-03"/>
    </inertial>
    <visual>
      <origin xyz="0 0 0" rpy="0 0 0"/>
      <geometry>
        <mesh filename="coacd_convex_piece_49.obj" scale="1.0000E+00 1.0000E+00 1.0000E+00"/>
      </geometry>
      <material name="">
        <color rgba="7.50E-01 7.50E-01 7.50E-01 1"/>
      </material>
    </visual>
    <collision>
      <origin xyz="0 0 0" rpy="0 0 0"/>
      <geometry>
        <mesh filename="coacd_convex_piece_49.obj" scale="1.0000E+00 1.0000E+00 1.0000E+00"/>
      </geometry>
    </collision>
  </link>
  <joint name="link_coacd_convex_piece_49_joint" type="fixed">
    <origin xyz="0 0 0" rpy="0 0 0"/>
    <parent link="link_coacd_convex_piece_48"/>
    <child link="link_coacd_convex_piece_49"/>
  </joint>
  <link name="link_coacd_convex_piece_50">
    <inertial>
      <origin xyz="0 0 0" rpy="0 0 0"/>
      <inertia ixx="4.49E-03" ixy="-4.54E-04" ixz="1.43E-03" iyy="6.18E-03" iyz="1.31E-03" izz="2.61E-03"/>
    </inertial>
    <visual>
      <origin xyz="0 0 0" rpy="0 0 0"/>
      <geometry>
        <mesh filename="coacd_convex_piece_50.obj" scale="1.0000E+00 1.0000E+00 1.0000E+00"/>
      </geometry>
      <material name="">
        <color rgba="7.50E-01 7.50E-01 7.50E-01 1"/>
      </material>
    </visual>
    <collision>
      <origin xyz="0 0 0" rpy="0 0 0"/>
      <geometry>
        <mesh filename="coacd_convex_piece_50.obj" scale="1.0000E+00 1.0000E+00 1.0000E+00"/>
      </geometry>
    </collision>
  </link>
  <joint name="link_coacd_convex_piece_50_joint" type="fixed">
    <origin xyz="0 0 0" rpy="0 0 0"/>
    <parent link="link_coacd_convex_piece_49"/>
    <child link="link_coacd_convex_piece_50"/>
  </joint>
  <link name="link_coacd_convex_piece_51">
    <inertial>
      <origin xyz="0 0 0" rpy="0 0 0"/>
      <inertia ixx="1.89E-03" ixy="2.52E-04" ixz="4.77E-04" iyy="1.64E-03" iyz="-7.65E-04" izz="6.01E-04"/>
    </inertial>
    <visual>
      <origin xyz="0 0 0" rpy="0 0 0"/>
      <geometry>
        <mesh filename="coacd_convex_piece_51.obj" scale="1.0000E+00 1.0000E+00 1.0000E+00"/>
      </geometry>
      <material name="">
        <color rgba="7.50E-01 7.50E-01 7.50E-01 1"/>
      </material>
    </visual>
    <collision>
      <origin xyz="0 0 0" rpy="0 0 0"/>
      <geometry>
        <mesh filename="coacd_convex_piece_51.obj" scale="1.0000E+00 1.0000E+00 1.0000E+00"/>
      </geometry>
    </collision>
  </link>
  <joint name="link_coacd_convex_piece_51_joint" type="fixed">
    <origin xyz="0 0 0" rpy="0 0 0"/>
    <parent link="link_coacd_convex_piece_50"/>
    <child link="link_coacd_convex_piece_51"/>
  </joint>
  <link name="link_coacd_convex_piece_52">
    <inertial>
      <origin xyz="0 0 0" rpy="0 0 0"/>
      <inertia ixx="1.29E-03" ixy="5.08E-04" ixz="-5.32E-04" iyy="1.10E-03" iyz="6.31E-04" izz="1.06E-03"/>
    </inertial>
    <visual>
      <origin xyz="0 0 0" rpy="0 0 0"/>
      <geometry>
        <mesh filename="coacd_convex_piece_52.obj" scale="1.0000E+00 1.0000E+00 1.0000E+00"/>
      </geometry>
      <material name="">
        <color rgba="7.50E-01 7.50E-01 7.50E-01 1"/>
      </material>
    </visual>
    <collision>
      <origin xyz="0 0 0" rpy="0 0 0"/>
      <geometry>
        <mesh filename="coacd_convex_piece_52.obj" scale="1.0000E+00 1.0000E+00 1.0000E+00"/>
      </geometry>
    </collision>
  </link>
  <joint name="link_coacd_convex_piece_52_joint" type="fixed">
    <origin xyz="0 0 0" rpy="0 0 0"/>
    <parent link="link_coacd_convex_piece_51"/>
    <child link="link_coacd_convex_piece_52"/>
  </joint>
  <link name="link_coacd_convex_piece_53">
    <inertial>
      <origin xyz="0 0 0" rpy="0 0 0"/>
      <inertia ixx="2.50E-04" ixy="4.07E-07" ixz="-1.10E-06" iyy="3.91E-04" iyz="-5.62E-05" izz="1.74E-04"/>
    </inertial>
    <visual>
      <origin xyz="0 0 0" rpy="0 0 0"/>
      <geometry>
        <mesh filename="coacd_convex_piece_53.obj" scale="1.0000E+00 1.0000E+00 1.0000E+00"/>
      </geometry>
      <material name="">
        <color rgba="7.50E-01 7.50E-01 7.50E-01 1"/>
      </material>
    </visual>
    <collision>
      <origin xyz="0 0 0" rpy="0 0 0"/>
      <geometry>
        <mesh filename="coacd_convex_piece_53.obj" scale="1.0000E+00 1.0000E+00 1.0000E+00"/>
      </geometry>
    </collision>
  </link>
  <joint name="link_coacd_convex_piece_53_joint" type="fixed">
    <origin xyz="0 0 0" rpy="0 0 0"/>
    <parent link="link_coacd_convex_piece_52"/>
    <child link="link_coacd_convex_piece_53"/>
  </joint>
  <link name="link_coacd_convex_piece_54">
    <inertial>
      <origin xyz="0 0 0" rpy="0 0 0"/>
      <inertia ixx="3.91E-04" ixy="1.33E-04" ixz="2.65E-04" iyy="5.37E-04" iyz="-1.53E-04" izz="3.13E-04"/>
    </inertial>
    <visual>
      <origin xyz="0 0 0" rpy="0 0 0"/>
      <geometry>
        <mesh filename="coacd_convex_piece_54.obj" scale="1.0000E+00 1.0000E+00 1.0000E+00"/>
      </geometry>
      <material name="">
        <color rgba="7.50E-01 7.50E-01 7.50E-01 1"/>
      </material>
    </visual>
    <collision>
      <origin xyz="0 0 0" rpy="0 0 0"/>
      <geometry>
        <mesh filename="coacd_convex_piece_54.obj" scale="1.0000E+00 1.0000E+00 1.0000E+00"/>
      </geometry>
    </collision>
  </link>
  <joint name="link_coacd_convex_piece_54_joint" type="fixed">
    <origin xyz="0 0 0" rpy="0 0 0"/>
    <parent link="link_coacd_convex_piece_53"/>
    <child link="link_coacd_convex_piece_54"/>
  </joint>
  <link name="link_coacd_convex_piece_55">
    <inertial>
      <origin xyz="0 0 0" rpy="0 0 0"/>
      <inertia ixx="1.52E-03" ixy="-5.37E-06" ixz="2.42E-04" iyy="1.63E-03" iyz="3.53E-05" izz="1.05E-04"/>
    </inertial>
    <visual>
      <origin xyz="0 0 0" rpy="0 0 0"/>
      <geometry>
        <mesh filename="coacd_convex_piece_55.obj" scale="1.0000E+00 1.0000E+00 1.0000E+00"/>
      </geometry>
      <material name="">
        <color rgba="7.50E-01 7.50E-01 7.50E-01 1"/>
      </material>
    </visual>
    <collision>
      <origin xyz="0 0 0" rpy="0 0 0"/>
      <geometry>
        <mesh filename="coacd_convex_piece_55.obj" scale="1.0000E+00 1.0000E+00 1.0000E+00"/>
      </geometry>
    </collision>
  </link>
  <joint name="link_coacd_convex_piece_55_joint" type="fixed">
    <origin xyz="0 0 0" rpy="0 0 0"/>
    <parent link="link_coacd_convex_piece_54"/>
    <child link="link_coacd_convex_piece_55"/>
  </joint>
  <link name="link_coacd_convex_piece_56">
    <inertial>
      <origin xyz="0 0 0" rpy="0 0 0"/>
      <inertia ixx="4.61E-03" ixy="-1.46E-05" ixz="7.05E-05" iyy="4.87E-03" iyz="9.24E-04" izz="6.65E-04"/>
    </inertial>
    <visual>
      <origin xyz="0 0 0" rpy="0 0 0"/>
      <geometry>
        <mesh filename="coacd_convex_piece_56.obj" scale="1.0000E+00 1.0000E+00 1.0000E+00"/>
      </geometry>
      <material name="">
        <color rgba="7.50E-01 7.50E-01 7.50E-01 1"/>
      </material>
    </visual>
    <collision>
      <origin xyz="0 0 0" rpy="0 0 0"/>
      <geometry>
        <mesh filename="coacd_convex_piece_56.obj" scale="1.0000E+00 1.0000E+00 1.0000E+00"/>
      </geometry>
    </collision>
  </link>
  <joint name="link_coacd_convex_piece_56_joint" type="fixed">
    <origin xyz="0 0 0" rpy="0 0 0"/>
    <parent link="link_coacd_convex_piece_55"/>
    <child link="link_coacd_convex_piece_56"/>
  </joint>
  <link name="link_coacd_convex_piece_57">
    <inertial>
      <origin xyz="0 0 0" rpy="0 0 0"/>
      <inertia ixx="2.39E-03" ixy="1.06E-03" ixz="-9.83E-04" iyy="2.26E-03" iyz="1.07E-03" izz="2.40E-03"/>
    </inertial>
    <visual>
      <origin xyz="0 0 0" rpy="0 0 0"/>
      <geometry>
        <mesh filename="coacd_convex_piece_57.obj" scale="1.0000E+00 1.0000E+00 1.0000E+00"/>
      </geometry>
      <material name="">
        <color rgba="7.50E-01 7.50E-01 7.50E-01 1"/>
      </material>
    </visual>
    <collision>
      <origin xyz="0 0 0" rpy="0 0 0"/>
      <geometry>
        <mesh filename="coacd_convex_piece_57.obj" scale="1.0000E+00 1.0000E+00 1.0000E+00"/>
      </geometry>
    </collision>
  </link>
  <joint name="link_coacd_convex_piece_57_joint" type="fixed">
    <origin xyz="0 0 0" rpy="0 0 0"/>
    <parent link="link_coacd_convex_piece_56"/>
    <child link="link_coacd_convex_piece_57"/>
  </joint>
  <link name="link_coacd_convex_piece_58">
    <inertial>
      <origin xyz="0 0 0" rpy="0 0 0"/>
      <inertia ixx="1.37E-03" ixy="2.66E-04" ixz="-3.25E-04" iyy="9.61E-04" iyz="6.52E-04" izz="6.96E-04"/>
    </inertial>
    <visual>
      <origin xyz="0 0 0" rpy="0 0 0"/>
      <geometry>
        <mesh filename="coacd_convex_piece_58.obj" scale="1.0000E+00 1.0000E+00 1.0000E+00"/>
      </geometry>
      <material name="">
        <color rgba="7.50E-01 7.50E-01 7.50E-01 1"/>
      </material>
    </visual>
    <collision>
      <origin xyz="0 0 0" rpy="0 0 0"/>
      <geometry>
        <mesh filename="coacd_convex_piece_58.obj" scale="1.0000E+00 1.0000E+00 1.0000E+00"/>
      </geometry>
    </collision>
  </link>
  <joint name="link_coacd_convex_piece_58_joint" type="fixed">
    <origin xyz="0 0 0" rpy="0 0 0"/>
    <parent link="link_coacd_convex_piece_57"/>
    <child link="link_coacd_convex_piece_58"/>
  </joint>
  <link name="link_coacd_convex_piece_59">
    <inertial>
      <origin xyz="0 0 0" rpy="0 0 0"/>
      <inertia ixx="1.14E-03" ixy="2.18E-05" ixz="-7.27E-04" iyy="1.73E-03" iyz="3.12E-05" izz="5.92E-04"/>
    </inertial>
    <visual>
      <origin xyz="0 0 0" rpy="0 0 0"/>
      <geometry>
        <mesh filename="coacd_convex_piece_59.obj" scale="1.0000E+00 1.0000E+00 1.0000E+00"/>
      </geometry>
      <material name="">
        <color rgba="7.50E-01 7.50E-01 7.50E-01 1"/>
      </material>
    </visual>
    <collision>
      <origin xyz="0 0 0" rpy="0 0 0"/>
      <geometry>
        <mesh filename="coacd_convex_piece_59.obj" scale="1.0000E+00 1.0000E+00 1.0000E+00"/>
      </geometry>
    </collision>
  </link>
  <joint name="link_coacd_convex_piece_59_joint" type="fixed">
    <origin xyz="0 0 0" rpy="0 0 0"/>
    <parent link="link_coacd_convex_piece_58"/>
    <child link="link_coacd_convex_piece_59"/>
  </joint>
  <link name="link_coacd_convex_piece_60">
    <inertial>
      <origin xyz="0 0 0" rpy="0 0 0"/>
      <inertia ixx="2.28E-05" ixy="-2.38E-06" ixz="1.46E-05" iyy="3.20E-05" iyz="3.64E-06" izz="1.04E-05"/>
    </inertial>
    <visual>
      <origin xyz="0 0 0" rpy="0 0 0"/>
      <geometry>
        <mesh filename="coacd_convex_piece_60.obj" scale="1.0000E+00 1.0000E+00 1.0000E+00"/>
      </geometry>
      <material name="">
        <color rgba="7.50E-01 7.50E-01 7.50E-01 1"/>
      </material>
    </visual>
    <collision>
      <origin xyz="0 0 0" rpy="0 0 0"/>
      <geometry>
        <mesh filename="coacd_convex_piece_60.obj" scale="1.0000E+00 1.0000E+00 1.0000E+00"/>
      </geometry>
    </collision>
  </link>
  <joint name="link_coacd_convex_piece_60_joint" type="fixed">
    <origin xyz="0 0 0" rpy="0 0 0"/>
    <parent link="link_coacd_convex_piece_59"/>
    <child link="link_coacd_convex_piece_60"/>
  </joint>
  <link name="link_coacd_convex_piece_61">
    <inertial>
      <origin xyz="0 0 0" rpy="0 0 0"/>
      <inertia ixx="2.69E-04" ixy="-1.49E-04" ixz="5.33E-04" iyy="2.24E-03" iyz="4.17E-05" izz="1.99E-03"/>
    </inertial>
    <visual>
      <origin xyz="0 0 0" rpy="0 0 0"/>
      <geometry>
        <mesh filename="coacd_convex_piece_61.obj" scale="1.0000E+00 1.0000E+00 1.0000E+00"/>
      </geometry>
      <material name="">
        <color rgba="7.50E-01 7.50E-01 7.50E-01 1"/>
      </material>
    </visual>
    <collision>
      <origin xyz="0 0 0" rpy="0 0 0"/>
      <geometry>
        <mesh filename="coacd_convex_piece_61.obj" scale="1.0000E+00 1.0000E+00 1.0000E+00"/>
      </geometry>
    </collision>
  </link>
  <joint name="link_coacd_convex_piece_61_joint" type="fixed">
    <origin xyz="0 0 0" rpy="0 0 0"/>
    <parent link="link_coacd_convex_piece_60"/>
    <child link="link_coacd_convex_piece_61"/>
  </joint>
  <link name="link_coacd_convex_piece_62">
    <inertial>
      <origin xyz="0 0 0" rpy="0 0 0"/>
      <inertia ixx="3.67E-04" ixy="-5.91E-05" ixz="-2.69E-04" iyy="5.60E-04" iyz="-7.63E-05" izz="2.30E-04"/>
    </inertial>
    <visual>
      <origin xyz="0 0 0" rpy="0 0 0"/>
      <geometry>
        <mesh filename="coacd_convex_piece_62.obj" scale="1.0000E+00 1.0000E+00 1.0000E+00"/>
      </geometry>
      <material name="">
        <color rgba="7.50E-01 7.50E-01 7.50E-01 1"/>
      </material>
    </visual>
    <collision>
      <origin xyz="0 0 0" rpy="0 0 0"/>
      <geometry>
        <mesh filename="coacd_convex_piece_62.obj" scale="1.0000E+00 1.0000E+00 1.0000E+00"/>
      </geometry>
    </collision>
  </link>
  <joint name="link_coacd_convex_piece_62_joint" type="fixed">
    <origin xyz="0 0 0" rpy="0 0 0"/>
    <parent link="link_coacd_convex_piece_61"/>
    <child link="link_coacd_convex_piece_62"/>
  </joint>
  <link name="link_coacd_convex_piece_63">
    <inertial>
      <origin xyz="0 0 0" rpy="0 0 0"/>
      <inertia ixx="1.78E-04" ixy="-2.13E-04" ixz="2.21E-04" iyy="6.59E-04" iyz="8.16E-05" izz="6.55E-04"/>
    </inertial>
    <visual>
      <origin xyz="0 0 0" rpy="0 0 0"/>
      <geometry>
        <mesh filename="coacd_convex_piece_63.obj" scale="1.0000E+00 1.0000E+00 1.0000E+00"/>
      </geometry>
      <material name="">
        <color rgba="7.50E-01 7.50E-01 7.50E-01 1"/>
      </material>
    </visual>
    <collision>
      <origin xyz="0 0 0" rpy="0 0 0"/>
      <geometry>
        <mesh filename="coacd_convex_piece_63.obj" scale="1.0000E+00 1.0000E+00 1.0000E+00"/>
      </geometry>
    </collision>
  </link>
  <joint name="link_coacd_convex_piece_63_joint" type="fixed">
    <origin xyz="0 0 0" rpy="0 0 0"/>
    <parent link="link_coacd_convex_piece_62"/>
    <child link="link_coacd_convex_piece_63"/>
  </joint>
  <link name="link_coacd_convex_piece_64">
    <inertial>
      <origin xyz="0 0 0" rpy="0 0 0"/>
      <inertia ixx="3.96E-04" ixy="-4.06E-05" ixz="-3.98E-04" iyy="8.18E-04" iyz="-3.92E-05" izz="4.30E-04"/>
    </inertial>
    <visual>
      <origin xyz="0 0 0" rpy="0 0 0"/>
      <geometry>
        <mesh filename="coacd_convex_piece_64.obj" scale="1.0000E+00 1.0000E+00 1.0000E+00"/>
      </geometry>
      <material name="">
        <color rgba="7.50E-01 7.50E-01 7.50E-01 1"/>
      </material>
    </visual>
    <collision>
      <origin xyz="0 0 0" rpy="0 0 0"/>
      <geometry>
        <mesh filename="coacd_convex_piece_64.obj" scale="1.0000E+00 1.0000E+00 1.0000E+00"/>
      </geometry>
    </collision>
  </link>
  <joint name="link_coacd_convex_piece_64_joint" type="fixed">
    <origin xyz="0 0 0" rpy="0 0 0"/>
    <parent link="link_coacd_convex_piece_63"/>
    <child link="link_coacd_convex_piece_64"/>
  </joint>
  <link name="link_coacd_convex_piece_65">
    <inertial>
      <origin xyz="0 0 0" rpy="0 0 0"/>
      <inertia ixx="1.04E-03" ixy="7.94E-06" ixz="3.15E-04" iyy="1.17E-03" iyz="-2.40E-05" izz="1.32E-04"/>
    </inertial>
    <visual>
      <origin xyz="0 0 0" rpy="0 0 0"/>
      <geometry>
        <mesh filename="coacd_convex_piece_65.obj" scale="1.0000E+00 1.0000E+00 1.0000E+00"/>
      </geometry>
      <material name="">
        <color rgba="7.50E-01 7.50E-01 7.50E-01 1"/>
      </material>
    </visual>
    <collision>
      <origin xyz="0 0 0" rpy="0 0 0"/>
      <geometry>
        <mesh filename="coacd_convex_piece_65.obj" scale="1.0000E+00 1.0000E+00 1.0000E+00"/>
      </geometry>
    </collision>
  </link>
  <joint name="link_coacd_convex_piece_65_joint" type="fixed">
    <origin xyz="0 0 0" rpy="0 0 0"/>
    <parent link="link_coacd_convex_piece_64"/>
    <child link="link_coacd_convex_piece_65"/>
  </joint>
  <link name="link_coacd_convex_piece_66">
    <inertial>
      <origin xyz="0 0 0" rpy="0 0 0"/>
      <inertia ixx="1.12E-03" ixy="-8.08E-06" ixz="-3.47E-04" iyy="1.26E-03" iyz="-2.58E-05" izz="1.49E-04"/>
    </inertial>
    <visual>
      <origin xyz="0 0 0" rpy="0 0 0"/>
      <geometry>
        <mesh filename="coacd_convex_piece_66.obj" scale="1.0000E+00 1.0000E+00 1.0000E+00"/>
      </geometry>
      <material name="">
        <color rgba="7.50E-01 7.50E-01 7.50E-01 1"/>
      </material>
    </visual>
    <collision>
      <origin xyz="0 0 0" rpy="0 0 0"/>
      <geometry>
        <mesh filename="coacd_convex_piece_66.obj" scale="1.0000E+00 1.0000E+00 1.0000E+00"/>
      </geometry>
    </collision>
  </link>
  <joint name="link_coacd_convex_piece_66_joint" type="fixed">
    <origin xyz="0 0 0" rpy="0 0 0"/>
    <parent link="link_coacd_convex_piece_65"/>
    <child link="link_coacd_convex_piece_66"/>
  </joint>
  <link name="link_coacd_convex_piece_67">
    <inertial>
      <origin xyz="0 0 0" rpy="0 0 0"/>
      <inertia ixx="7.91E-04" ixy="-2.11E-05" ixz="-2.98E-04" iyy="9.23E-04" iyz="-5.48E-05" izz="1.40E-04"/>
    </inertial>
    <visual>
      <origin xyz="0 0 0" rpy="0 0 0"/>
      <geometry>
        <mesh filename="coacd_convex_piece_67.obj" scale="1.0000E+00 1.0000E+00 1.0000E+00"/>
      </geometry>
      <material name="">
        <color rgba="7.50E-01 7.50E-01 7.50E-01 1"/>
      </material>
    </visual>
    <collision>
      <origin xyz="0 0 0" rpy="0 0 0"/>
      <geometry>
        <mesh filename="coacd_convex_piece_67.obj" scale="1.0000E+00 1.0000E+00 1.0000E+00"/>
      </geometry>
    </collision>
  </link>
  <joint name="link_coacd_convex_piece_67_joint" type="fixed">
    <origin xyz="0 0 0" rpy="0 0 0"/>
    <parent link="link_coacd_convex_piece_66"/>
    <child link="link_coacd_convex_piece_67"/>
  </joint>
  <link name="link_coacd_convex_piece_68">
    <inertial>
      <origin xyz="0 0 0" rpy="0 0 0"/>
      <inertia ixx="1.49E-03" ixy="-4.21E-04" ixz="-8.16E-04" iyy="1.76E-03" iyz="-5.99E-04" izz="9.14E-04"/>
    </inertial>
    <visual>
      <origin xyz="0 0 0" rpy="0 0 0"/>
      <geometry>
        <mesh filename="coacd_convex_piece_68.obj" scale="1.0000E+00 1.0000E+00 1.0000E+00"/>
      </geometry>
      <material name="">
        <color rgba="7.50E-01 7.50E-01 7.50E-01 1"/>
      </material>
    </visual>
    <collision>
      <origin xyz="0 0 0" rpy="0 0 0"/>
      <geometry>
        <mesh filename="coacd_convex_piece_68.obj" scale="1.0000E+00 1.0000E+00 1.0000E+00"/>
      </geometry>
    </collision>
  </link>
  <joint name="link_coacd_convex_piece_68_joint" type="fixed">
    <origin xyz="0 0 0" rpy="0 0 0"/>
    <parent link="link_coacd_convex_piece_67"/>
    <child link="link_coacd_convex_piece_68"/>
  </joint>
  <link name="link_coacd_convex_piece_69">
    <inertial>
      <origin xyz="0 0 0" rpy="0 0 0"/>
      <inertia ixx="3.21E-04" ixy="-9.01E-05" ixz="4.15E-04" iyy="1.07E-03" iyz="4.86E-05" izz="7.70E-04"/>
    </inertial>
    <visual>
      <origin xyz="0 0 0" rpy="0 0 0"/>
      <geometry>
        <mesh filename="coacd_convex_piece_69.obj" scale="1.0000E+00 1.0000E+00 1.0000E+00"/>
      </geometry>
      <material name="">
        <color rgba="7.50E-01 7.50E-01 7.50E-01 1"/>
      </material>
    </visual>
    <collision>
      <origin xyz="0 0 0" rpy="0 0 0"/>
      <geometry>
        <mesh filename="coacd_convex_piece_69.obj" scale="1.0000E+00 1.0000E+00 1.0000E+00"/>
      </geometry>
    </collision>
  </link>
  <joint name="link_coacd_convex_piece_69_joint" type="fixed">
    <origin xyz="0 0 0" rpy="0 0 0"/>
    <parent link="link_coacd_convex_piece_68"/>
    <child link="link_coacd_convex_piece_69"/>
  </joint>
  <link name="link_coacd_convex_piece_70">
    <inertial>
      <origin xyz="0 0 0" rpy="0 0 0"/>
      <inertia ixx="4.16E-04" ixy="-4.45E-04" ixz="3.37E-04" iyy="9.46E-04" iyz="1.91E-04" izz="1.05E-03"/>
    </inertial>
    <visual>
      <origin xyz="0 0 0" rpy="0 0 0"/>
      <geometry>
        <mesh filename="coacd_convex_piece_70.obj" scale="1.0000E+00 1.0000E+00 1.0000E+00"/>
      </geometry>
      <material name="">
        <color rgba="7.50E-01 7.50E-01 7.50E-01 1"/>
      </material>
    </visual>
    <collision>
      <origin xyz="0 0 0" rpy="0 0 0"/>
      <geometry>
        <mesh filename="coacd_convex_piece_70.obj" scale="1.0000E+00 1.0000E+00 1.0000E+00"/>
      </geometry>
    </collision>
  </link>
  <joint name="link_coacd_convex_piece_70_joint" type="fixed">
    <origin xyz="0 0 0" rpy="0 0 0"/>
    <parent link="link_coacd_convex_piece_69"/>
    <child link="link_coacd_convex_piece_70"/>
  </joint>
  <link name="link_coacd_convex_piece_71">
    <inertial>
      <origin xyz="0 0 0" rpy="0 0 0"/>
      <inertia ixx="9.80E-04" ixy="-7.05E-06" ixz="1.09E-04" iyy="1.02E-03" iyz="6.43E-05" izz="4.75E-05"/>
    </inertial>
    <visual>
      <origin xyz="0 0 0" rpy="0 0 0"/>
      <geometry>
        <mesh filename="coacd_convex_piece_71.obj" scale="1.0000E+00 1.0000E+00 1.0000E+00"/>
      </geometry>
      <material name="">
        <color rgba="7.50E-01 7.50E-01 7.50E-01 1"/>
      </material>
    </visual>
    <collision>
      <origin xyz="0 0 0" rpy="0 0 0"/>
      <geometry>
        <mesh filename="coacd_convex_piece_71.obj" scale="1.0000E+00 1.0000E+00 1.0000E+00"/>
      </geometry>
    </collision>
  </link>
  <joint name="link_coacd_convex_piece_71_joint" type="fixed">
    <origin xyz="0 0 0" rpy="0 0 0"/>
    <parent link="link_coacd_convex_piece_70"/>
    <child link="link_coacd_convex_piece_71"/>
  </joint>
  <link name="link_coacd_convex_piece_72">
    <inertial>
      <origin xyz="0 0 0" rpy="0 0 0"/>
      <inertia ixx="9.81E-04" ixy="2.00E-04" ixz="5.56E-04" iyy="1.22E-03" iyz="-3.08E-04" izz="4.97E-04"/>
    </inertial>
    <visual>
      <origin xyz="0 0 0" rpy="0 0 0"/>
      <geometry>
        <mesh filename="coacd_convex_piece_72.obj" scale="1.0000E+00 1.0000E+00 1.0000E+00"/>
      </geometry>
      <material name="">
        <color rgba="7.50E-01 7.50E-01 7.50E-01 1"/>
      </material>
    </visual>
    <collision>
      <origin xyz="0 0 0" rpy="0 0 0"/>
      <geometry>
        <mesh filename="coacd_convex_piece_72.obj" scale="1.0000E+00 1.0000E+00 1.0000E+00"/>
      </geometry>
    </collision>
  </link>
  <joint name="link_coacd_convex_piece_72_joint" type="fixed">
    <origin xyz="0 0 0" rpy="0 0 0"/>
    <parent link="link_coacd_convex_piece_71"/>
    <child link="link_coacd_convex_piece_72"/>
  </joint>
  <link name="link_coacd_convex_piece_73">
    <inertial>
      <origin xyz="0 0 0" rpy="0 0 0"/>
      <inertia ixx="8.33E-04" ixy="-4.47E-05" ixz="5.08E-04" iyy="1.17E-03" iyz="7.36E-05" izz="3.56E-04"/>
    </inertial>
    <visual>
      <origin xyz="0 0 0" rpy="0 0 0"/>
      <geometry>
        <mesh filename="coacd_convex_piece_73.obj" scale="1.0000E+00 1.0000E+00 1.0000E+00"/>
      </geometry>
      <material name="">
        <color rgba="7.50E-01 7.50E-01 7.50E-01 1"/>
      </material>
    </visual>
    <collision>
      <origin xyz="0 0 0" rpy="0 0 0"/>
      <geometry>
        <mesh filename="coacd_convex_piece_73.obj" scale="1.0000E+00 1.0000E+00 1.0000E+00"/>
      </geometry>
    </collision>
  </link>
  <joint name="link_coacd_convex_piece_73_joint" type="fixed">
    <origin xyz="0 0 0" rpy="0 0 0"/>
    <parent link="link_coacd_convex_piece_72"/>
    <child link="link_coacd_convex_piece_73"/>
  </joint>
  <link name="link_coacd_convex_piece_74">
    <inertial>
      <origin xyz="0 0 0" rpy="0 0 0"/>
      <inertia ixx="3.70E-04" ixy="-1.04E-05" ixz="6.75E-05" iyy="7.28E-04" iyz="7.62E-05" izz="4.21E-04"/>
    </inertial>
    <visual>
      <origin xyz="0 0 0" rpy="0 0 0"/>
      <geometry>
        <mesh filename="coacd_convex_piece_74.obj" scale="1.0000E+00 1.0000E+00 1.0000E+00"/>
      </geometry>
      <material name="">
        <color rgba="7.50E-01 7.50E-01 7.50E-01 1"/>
      </material>
    </visual>
    <collision>
      <origin xyz="0 0 0" rpy="0 0 0"/>
      <geometry>
        <mesh filename="coacd_convex_piece_74.obj" scale="1.0000E+00 1.0000E+00 1.0000E+00"/>
      </geometry>
    </collision>
  </link>
  <joint name="link_coacd_convex_piece_74_joint" type="fixed">
    <origin xyz="0 0 0" rpy="0 0 0"/>
    <parent link="link_coacd_convex_piece_73"/>
    <child link="link_coacd_convex_piece_74"/>
  </joint>
  <link name="link_coacd_convex_piece_75">
    <inertial>
      <origin xyz="0 0 0" rpy="0 0 0"/>
      <inertia ixx="4.24E-04" ixy="1.24E-04" ixz="2.12E-04" iyy="4.58E-04" iyz="-1.82E-04" izz="2.54E-04"/>
    </inertial>
    <visual>
      <origin xyz="0 0 0" rpy="0 0 0"/>
      <geometry>
        <mesh filename="coacd_convex_piece_75.obj" scale="1.0000E+00 1.0000E+00 1.0000E+00"/>
      </geometry>
      <material name="">
        <color rgba="7.50E-01 7.50E-01 7.50E-01 1"/>
      </material>
    </visual>
    <collision>
      <origin xyz="0 0 0" rpy="0 0 0"/>
      <geometry>
        <mesh filename="coacd_convex_piece_75.obj" scale="1.0000E+00 1.0000E+00 1.0000E+00"/>
      </geometry>
    </collision>
  </link>
  <joint name="link_coacd_convex_piece_75_joint" type="fixed">
    <origin xyz="0 0 0" rpy="0 0 0"/>
    <parent link="link_coacd_convex_piece_74"/>
    <child link="link_coacd_convex_piece_75"/>
  </joint>
</robot>
